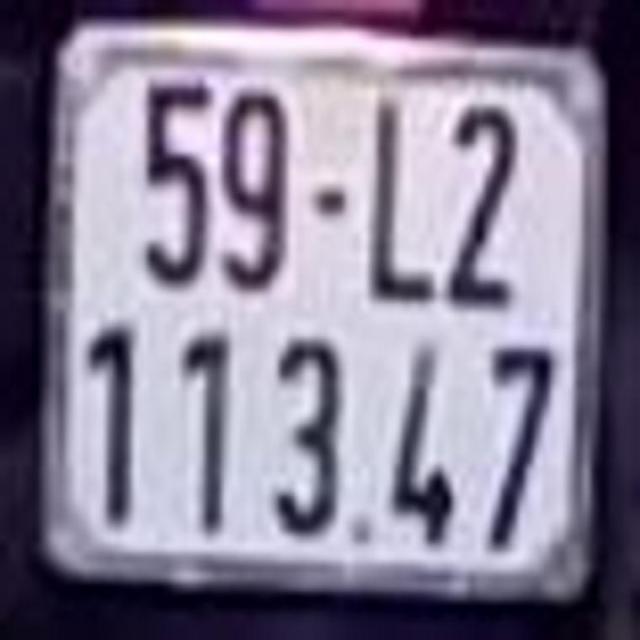1: (88, 324, 151, 527), (188, 335, 231, 524)
2: (445, 100, 518, 303)
4: (391, 337, 460, 554)
5: (276, 332, 344, 542), (142, 79, 206, 280)
7: (482, 341, 552, 554)
9: (214, 88, 293, 290)
L: (369, 102, 439, 308)
